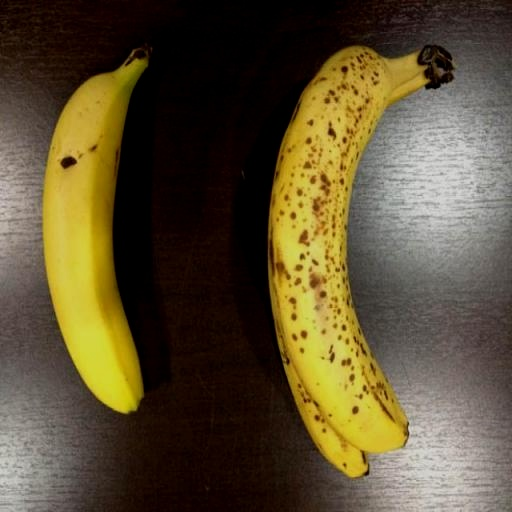fruit: (268, 46, 453, 474), (43, 45, 151, 412)
